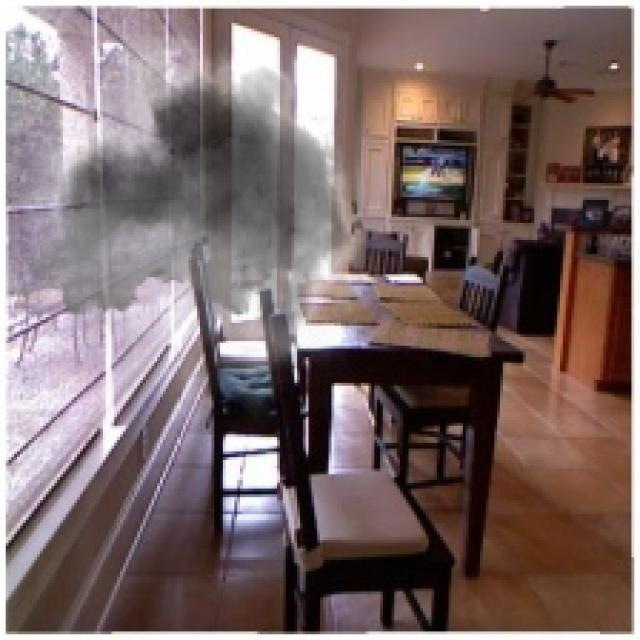smoke: (26, 11, 383, 426)
